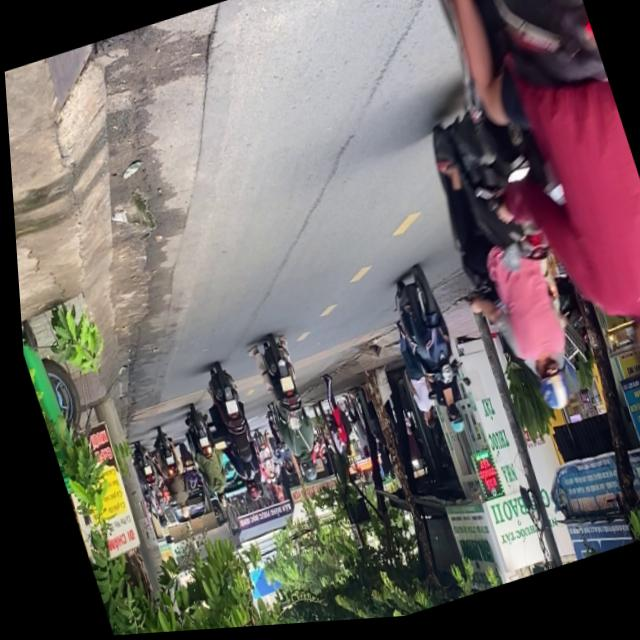helmet: (613, 311, 640, 444), (523, 361, 569, 423), (438, 408, 460, 441), (291, 456, 312, 487), (237, 481, 254, 504)
licenseplate: (407, 0, 640, 474), (401, 71, 602, 442), (377, 265, 476, 450), (241, 332, 325, 493), (190, 360, 268, 511)
nohelmet: (273, 378, 288, 395), (217, 402, 232, 417)
